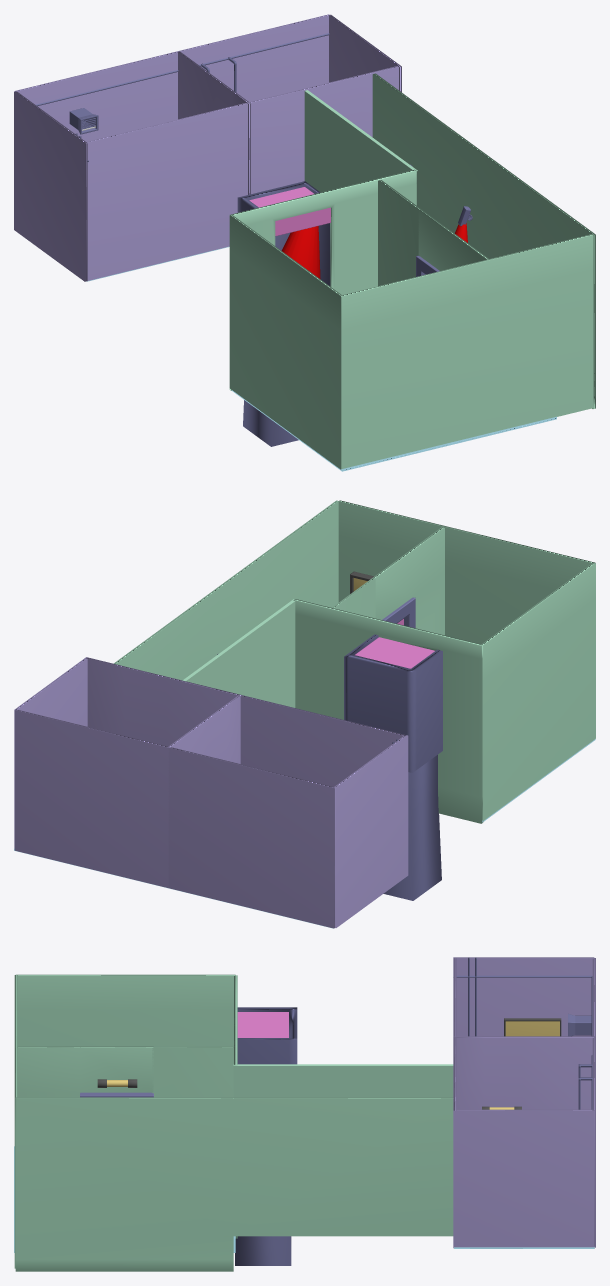
File: tutorial_floor_new_design_fbx_export_1_flat_colours.fbx
The picture shows the model from 3 angles, top to bottom: view 1: azimuth 30°, elevation 25°; view 2: azimuth 150°, elevation 25°; view 3: azimuth 270°, elevation 25°; orthographic projection. The views are drawn at different scales.
Visible parts, largest first — view 1: pCube160, pCube84, pCube162, pCube154, pCube3, pCube4, pCube157, pCube98, pCube151, pCube155, pasted__pCube155, pCube9 (+6 smaller); view 2: pCube4, pCube98, pCube162, pCube160, pCube157, pCube154, pCube3, pCube84, pCube151, pCube159, pCube155, pasted__pCube155 (+5 smaller); view 3: pCube154, pCube152, pCube162, pasted__pCube155, pCube9, pCube3, pCube155, pCube159, pCube158, pCube168, pCube183, pCube160 (+3 smaller).
Part boxes in pixels (x1,y1,x2,y2): pCube160: (340,234,593,469); pCube84: (86,103,247,280); pCube162: (229,215,341,469); pCube154: (372,73,595,408); pCube3: (14,91,87,281); pCube4: (14,51,177,141); pCube157: (229,169,416,390); pCube98: (177,14,330,101); pCube151: (247,65,400,193); pCube155: (304,90,418,206); pasted__pCube155: (378,180,488,286); pCube9: (177,51,250,194); pCube4: (168,747,334,928); pCube98: (14,710,169,887); pCube162: (481,563,595,820); pCube160: (338,500,595,644); pCube157: (293,599,483,823); pCube154: (114,500,338,680); pCube3: (333,735,408,927); pCube84: (240,695,406,786); pCube151: (86,657,241,746); pCube159: (344,634,442,772); pCube155: (183,599,295,707); pasted__pCube155: (332,527,444,635); pCube154: (15,1097,453,1271); pCube152: (453,1109,594,1248); pCube162: (16,974,235,1063); pasted__pCube155: (17,1046,233,1097); pCube9: (453,1036,594,1109); pCube3: (453,957,594,1036); pCube155: (233,1064,453,1097); pCube159: (237,1007,297,1064); pCube158: (235,1236,291,1265); pCube168: (237,1012,288,1037); pCube183: (505,1021,559,1036); pCube160: (14,975,17,1268).
Size of the model in its own units: 48.02 by 35.04 by 76.77.
